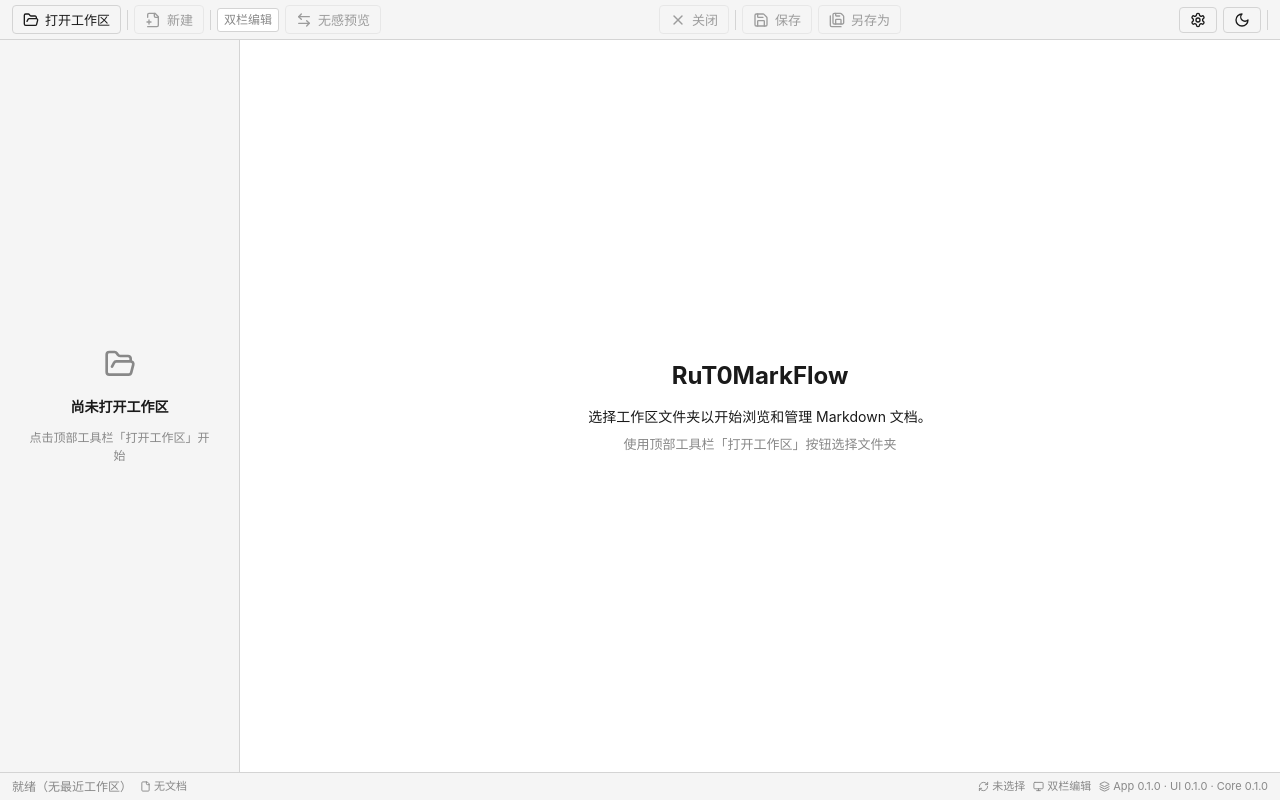
Test: Workspace pressure loading (11.4) › during workspace scanning, loading state is shown and UI stays responsive
# Click "打开工作区" to trigger workspace selection
Step 1. Click the button "打开工作区" → point(66, 20), box [12,5,121,34]
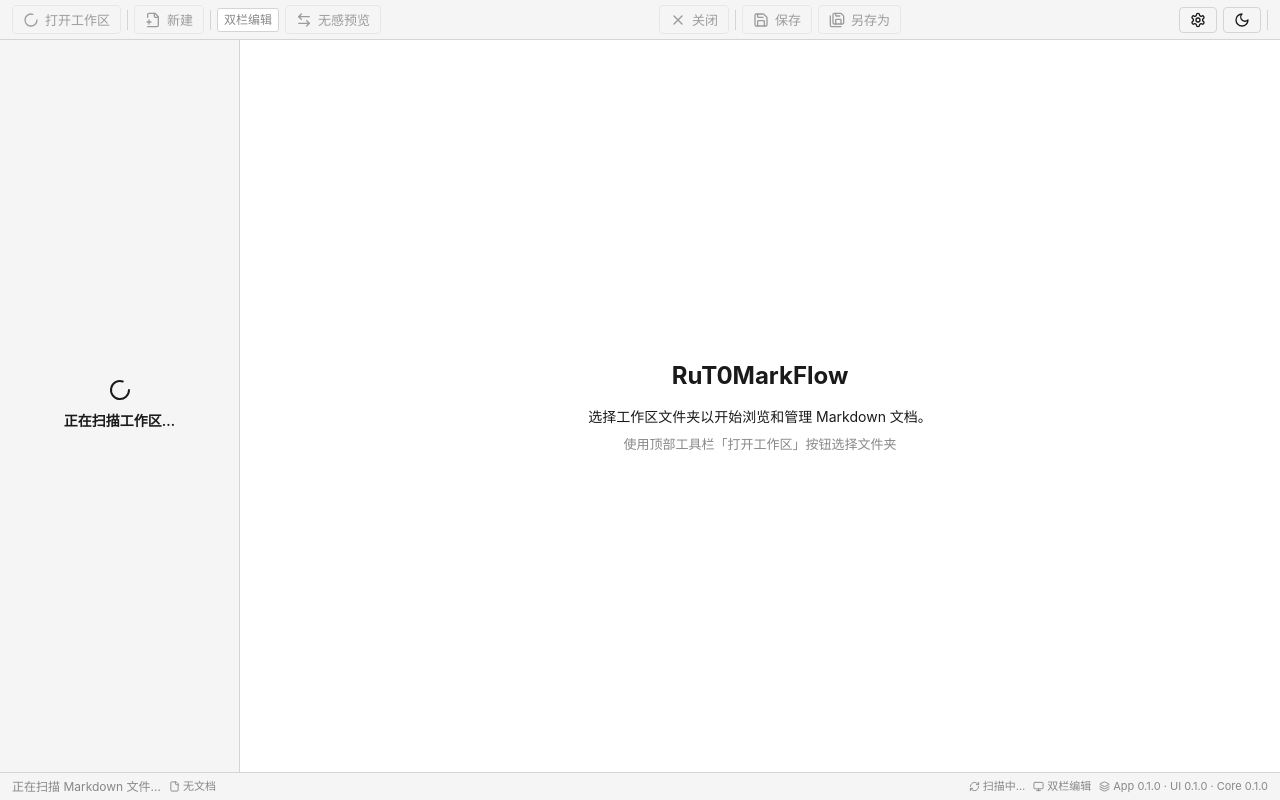
Expected: the heading "RuT0MarkFlow" is shown, [672,361,848,390]
Expected: the text "正在扫描工作区…" is shown, [64,410,175,430]
Expected: the text "正在扫描 Markdown 文件…" is shown, [12,778,161,796]
